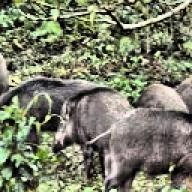boar: (85, 105, 192, 192)
